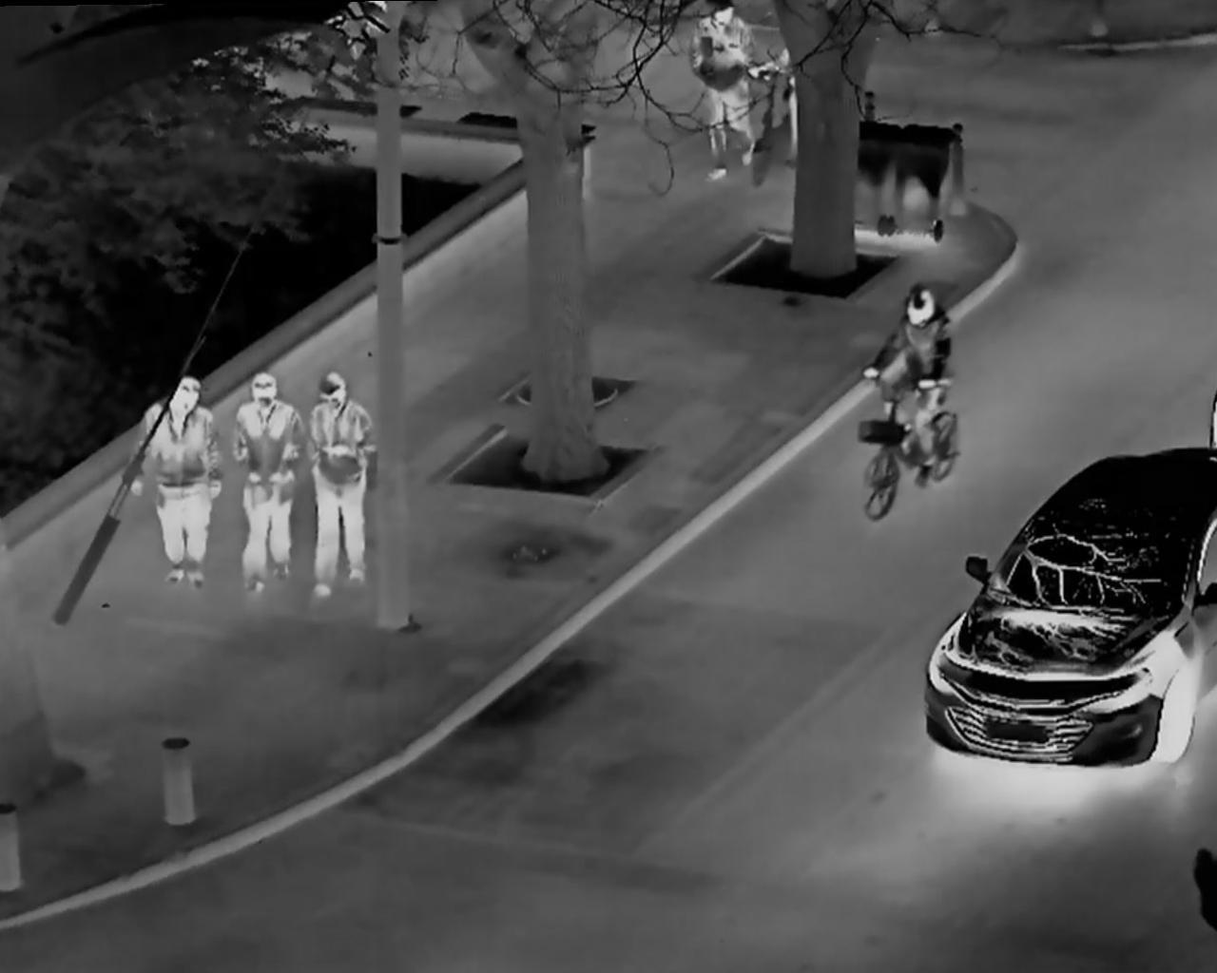person: (872, 270, 959, 518), (308, 369, 383, 610), (139, 366, 219, 590), (232, 370, 303, 597), (691, 5, 755, 184)
